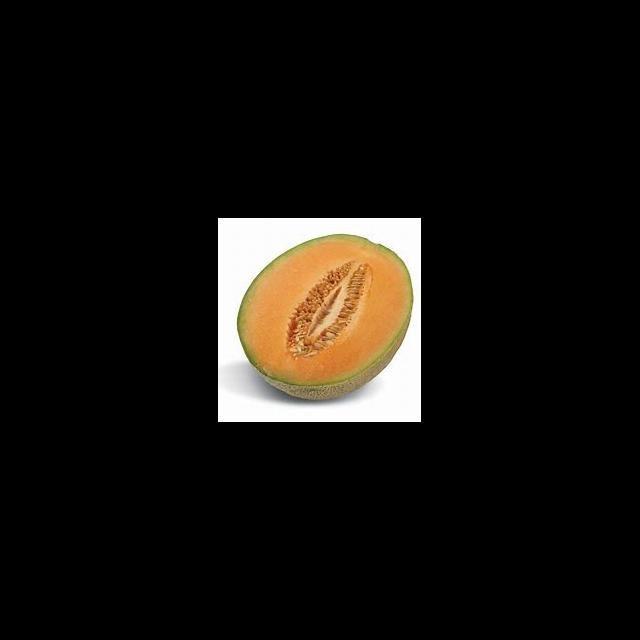Hami Melon: (238, 234, 413, 401)
